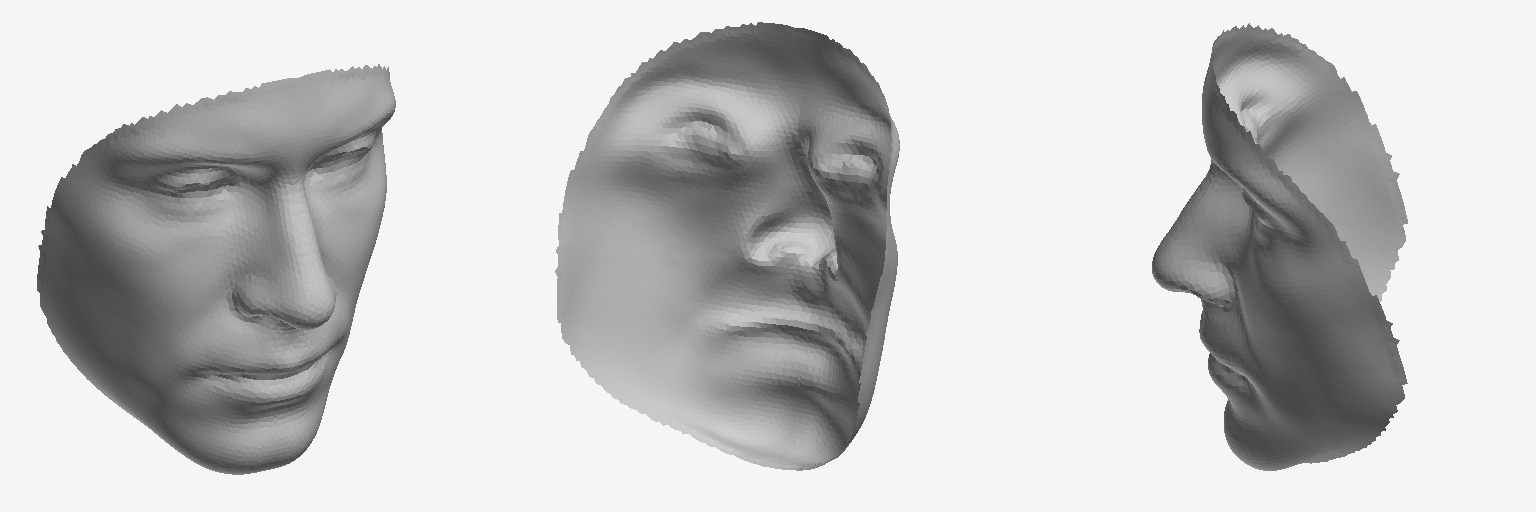
The model's file is SIMPOP_23.obj.
The picture shows the model from 3 angles: view 1: azimuth 30°, elevation 25°; view 2: azimuth 150°, elevation 25°; view 3: azimuth 270°, elevation 25°; orthographic projection.
Visible parts, largest first — view 1: SIMPOP_23; view 2: SIMPOP_23; view 3: SIMPOP_23.
Boxes of the visible parts, box(x1,y1,x2,y2) form: SIMPOP_23: box(37, 64, 395, 474); SIMPOP_23: box(555, 22, 899, 470); SIMPOP_23: box(1152, 23, 1407, 470).
Size of the model in its own units: 134 by 162 by 92.92.